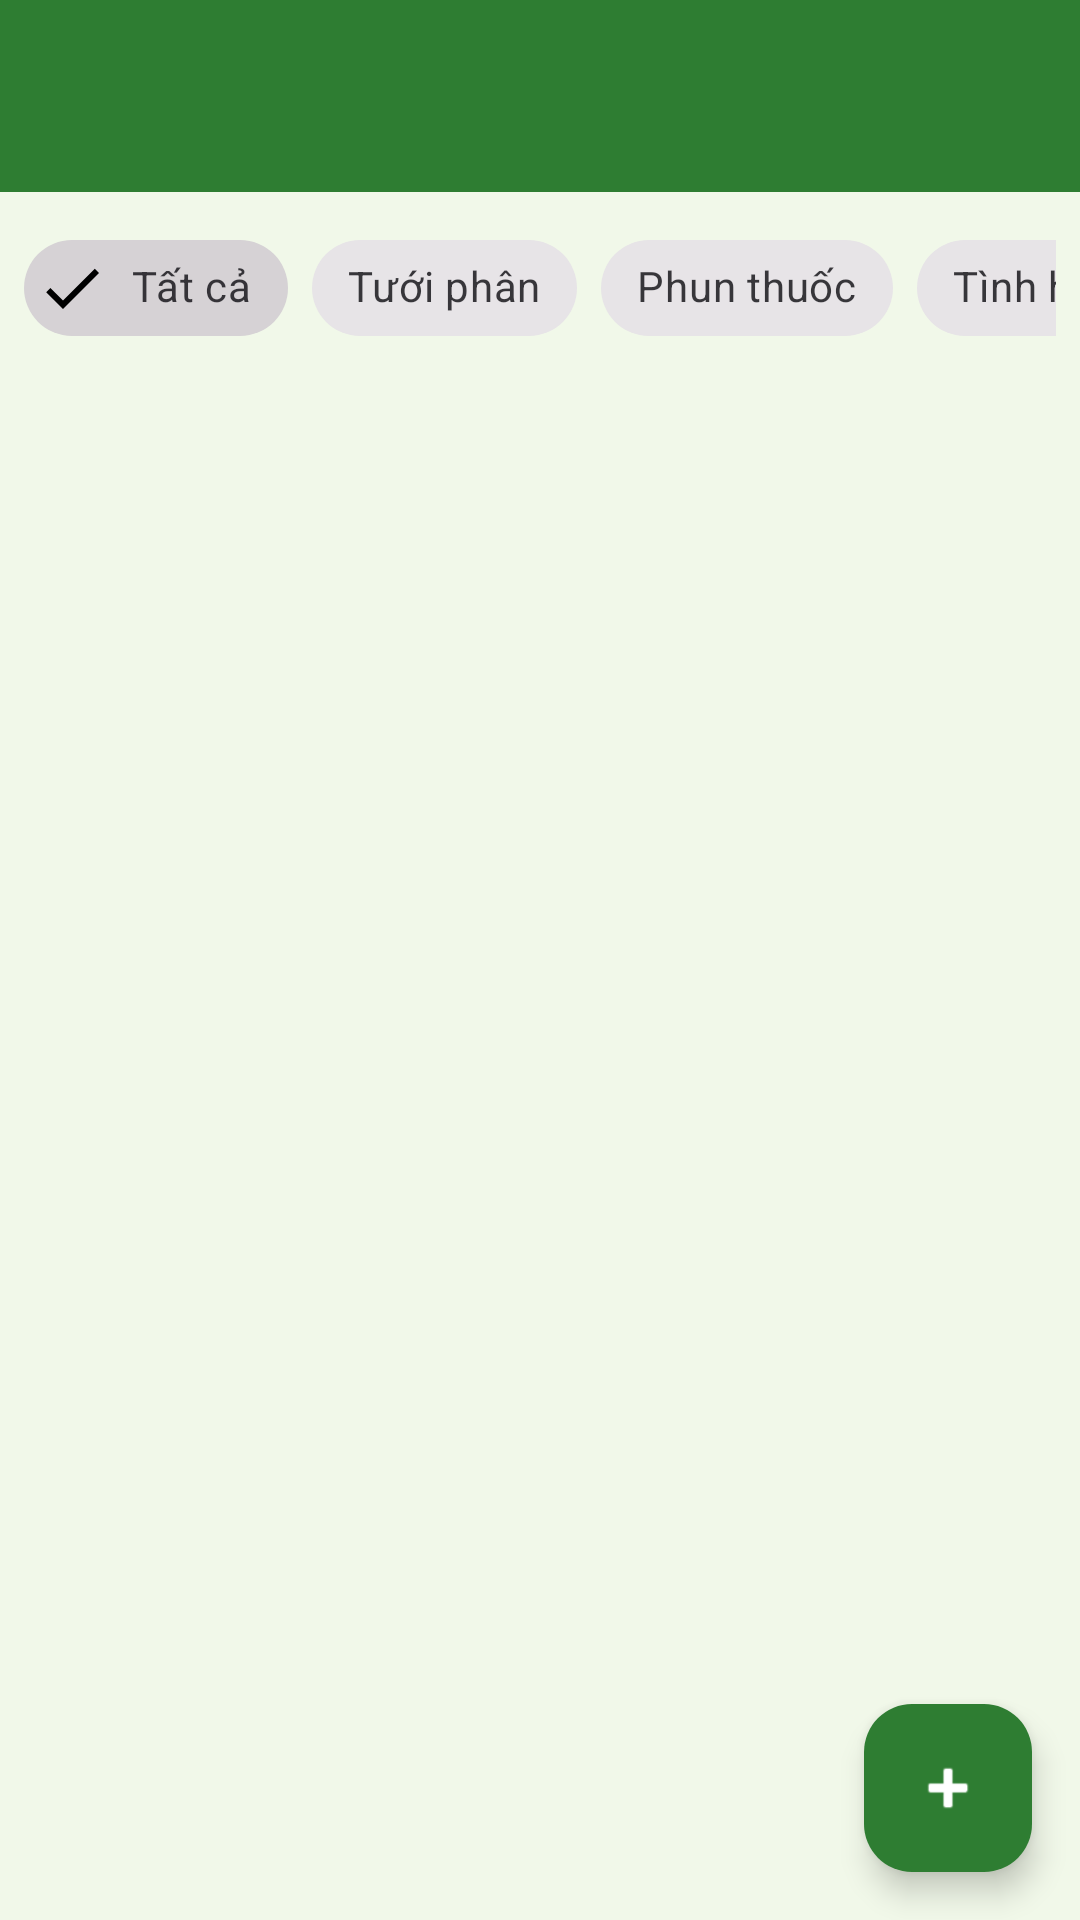

Locate icon controls on the screen. Image size 1080px x 1920px, boxes as [x1,y1,x2,y2].
Thêm nhật ký: [864,1704,1032,1872]
